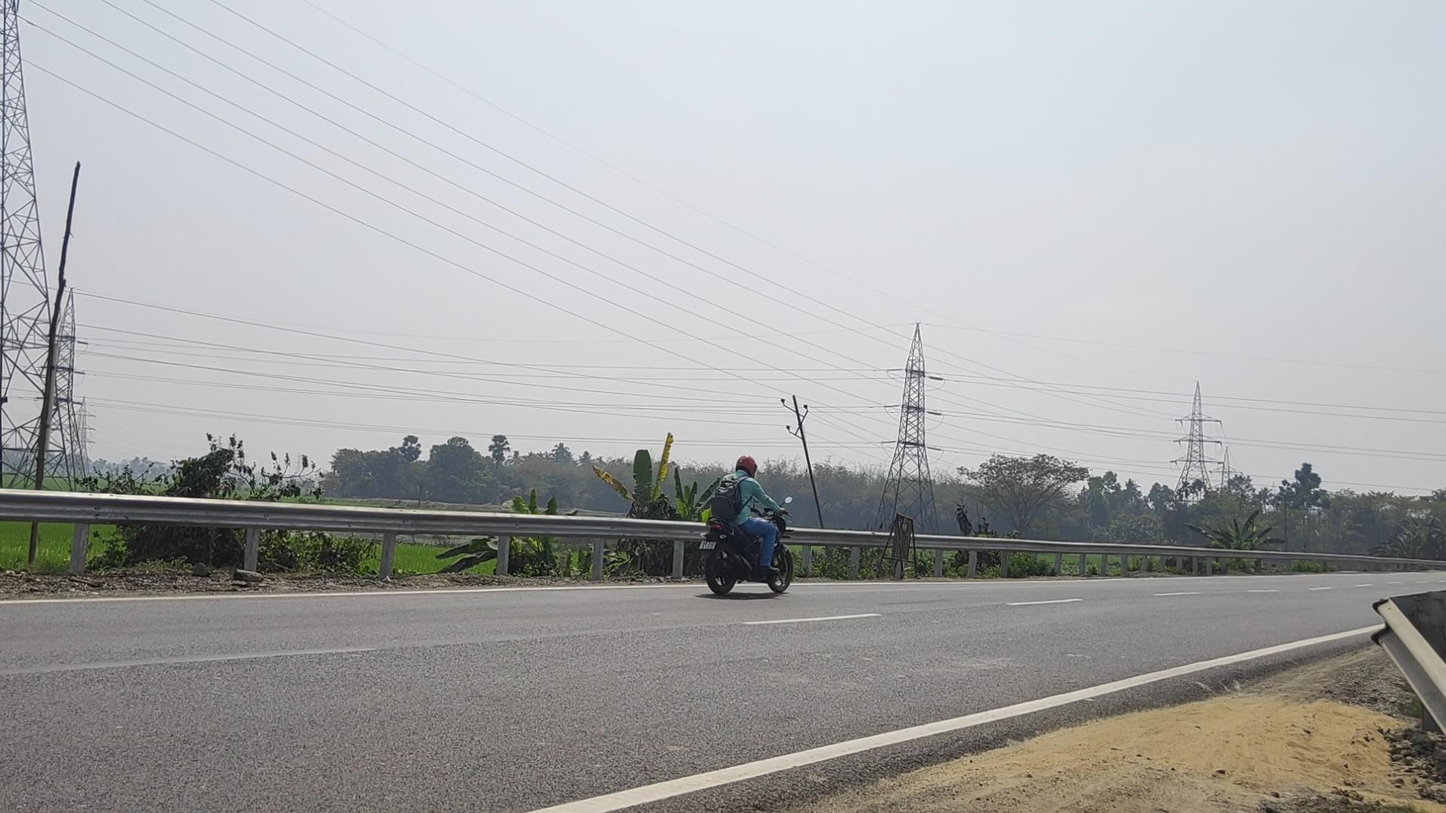bike: (699, 455, 794, 595)
